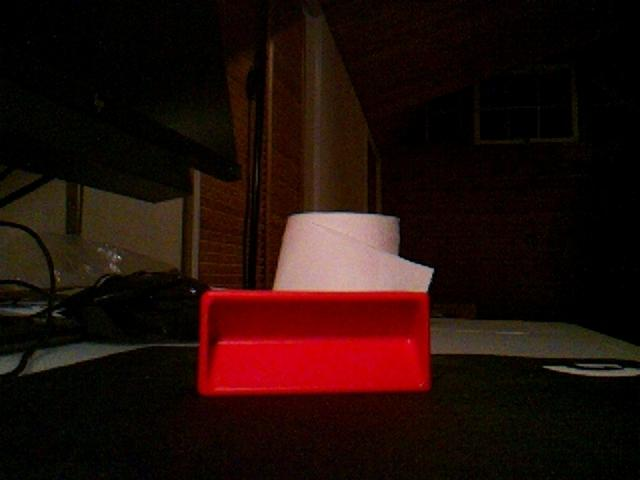red: (196, 288, 433, 398)
